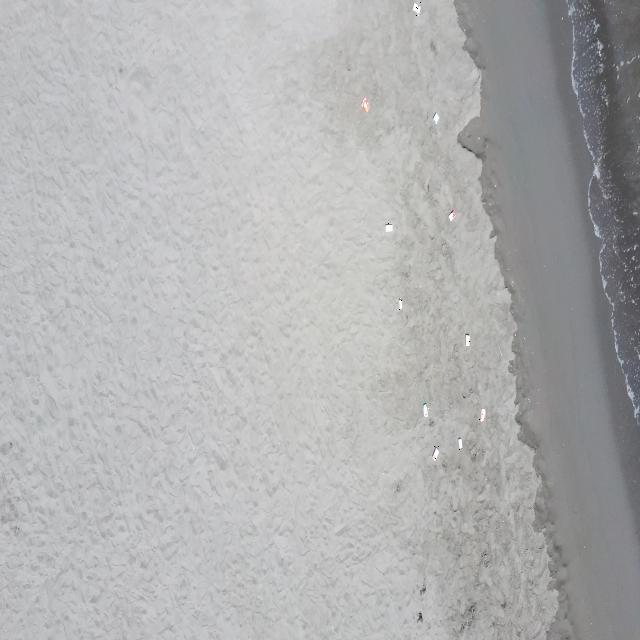Garbage: (360, 96, 367, 111), (412, 2, 420, 15), (432, 446, 439, 460), (384, 221, 392, 232), (448, 208, 455, 220), (432, 112, 439, 123), (457, 436, 462, 449), (480, 408, 484, 422), (423, 403, 427, 416), (416, 612, 422, 620), (397, 299, 402, 308), (464, 332, 467, 346)
